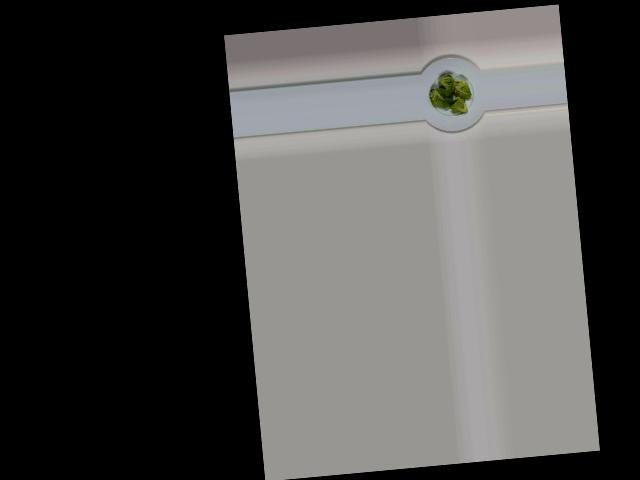lettuce: (423, 71, 472, 117)
